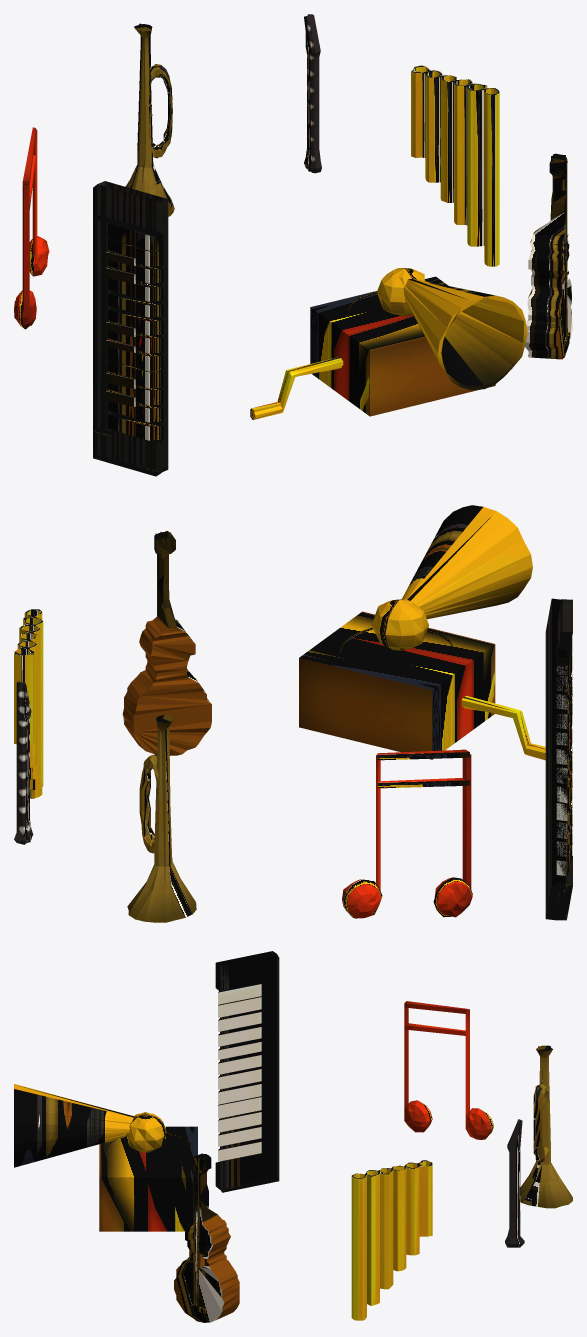
Rendered from Pltrgist.glb.
The picture shows the model from 3 angles, top to bottom: view 1: azimuth 30°, elevation 25°; view 2: azimuth 150°, elevation 25°; view 3: azimuth 270°, elevation 25°; orthographic projection. The views are drawn at different scales.
Visible parts, largest first — view 1: Pltrgist; view 2: Pltrgist; view 3: Pltrgist.
Part boxes in pixels (box(x1,y1,x2,y2)): Pltrgist: box(14, 14, 572, 476); Pltrgist: box(14, 505, 572, 922); Pltrgist: box(14, 951, 572, 1322).
Bounding box in the file's own units: 665 × 376 × 851.
Materials: 1 (1 with a texture image).
